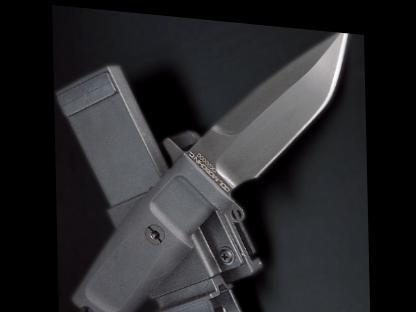knife: (154, 12, 361, 231)
